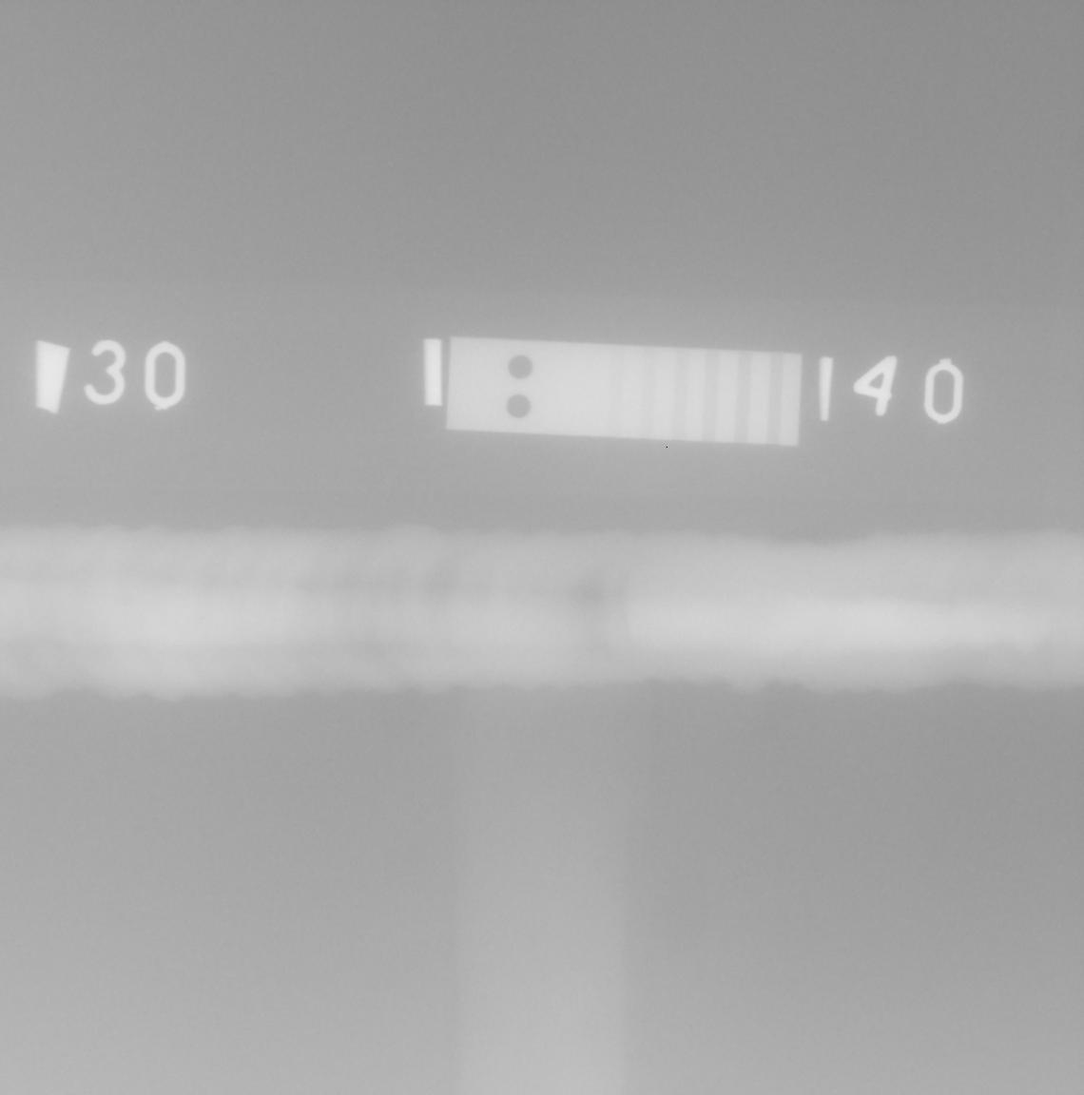Pore/Porosity: (122, 595, 132, 606)
Reference Standard 2: (446, 336, 802, 447)
